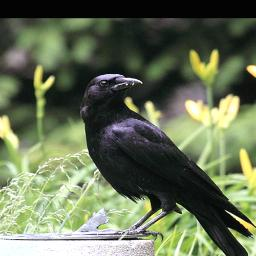Crow: (80, 73, 256, 256)
